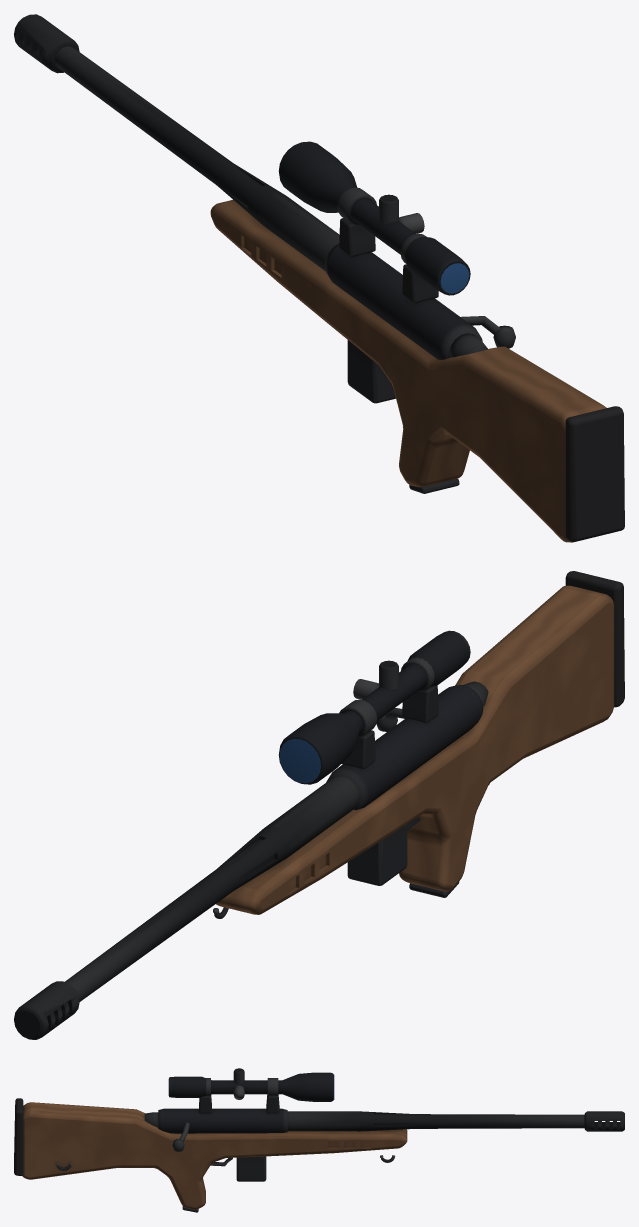
The picture shows the model from 3 angles, top to bottom: view 1: azimuth 30°, elevation 25°; view 2: azimuth 150°, elevation 25°; view 3: azimuth 270°, elevation 25°; orthographic projection. The views are drawn at different scales.
Parts seen in each view (by area): view 1: SR_body, SR_optic, SR_mag; view 2: SR_body, SR_optic, SR_mag; view 3: SR_body, SR_optic, SR_mag.
Boxes of the visible parts, box(x1,y1,x2,y2) form: SR_body: box(14, 14, 624, 542); SR_optic: box(278, 141, 470, 302); SR_mag: box(347, 340, 395, 403); SR_body: box(14, 571, 624, 1039); SR_optic: box(278, 630, 470, 784); SR_mag: box(347, 824, 407, 885); SR_body: box(14, 1098, 624, 1212); SR_optic: box(168, 1068, 334, 1113); SR_mag: box(236, 1156, 266, 1181).
Bounding box in the file's own units: 0.44 × 1.13 × 4.53.
Materials: 1 (1 with a texture image).
